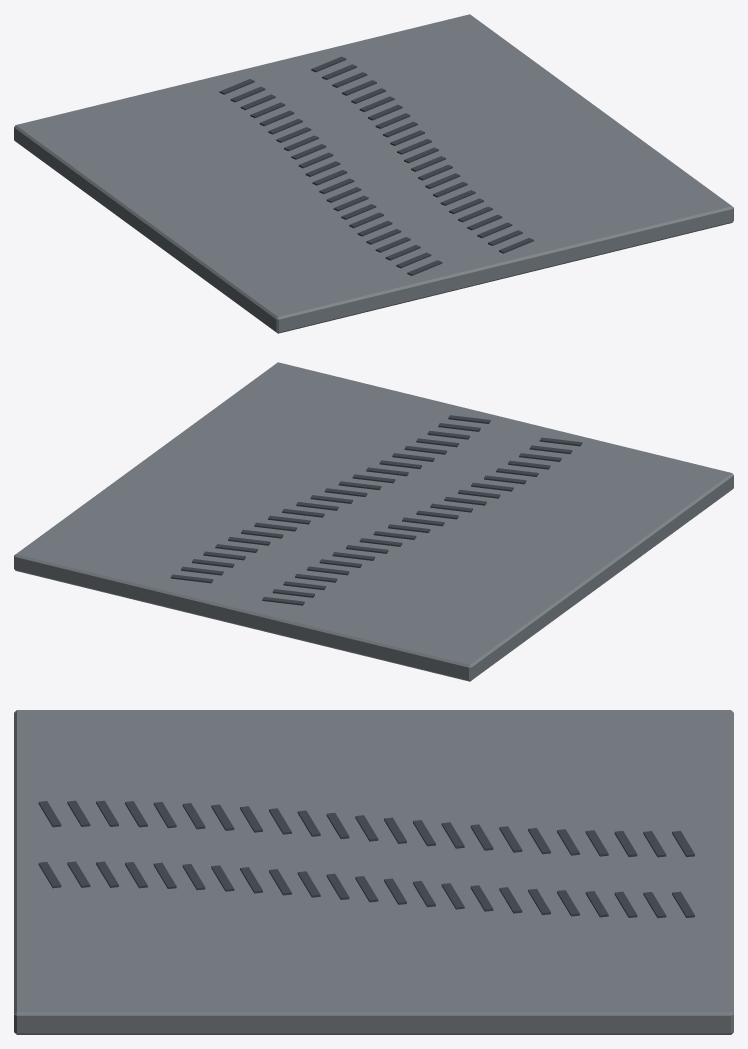
Rendered from TyreTrackTile.fbx.
3 renders of one model, top to bottom at view 1: azimuth 30°, elevation 25°; view 2: azimuth 150°, elevation 25°; view 3: azimuth 270°, elevation 25°, orthographic. The views are drawn at different scales.
Visible parts, largest first — view 1: TyreTrackTile; view 2: TyreTrackTile; view 3: TyreTrackTile.
Part boxes in pixels (bbox=[...]): TyreTrackTile: bbox=[14, 14, 733, 333]; TyreTrackTile: bbox=[14, 362, 733, 681]; TyreTrackTile: bbox=[14, 710, 733, 1034].
Size of the model in its own units: 200 by 7.8 by 200.
1 material, 1 textured.
